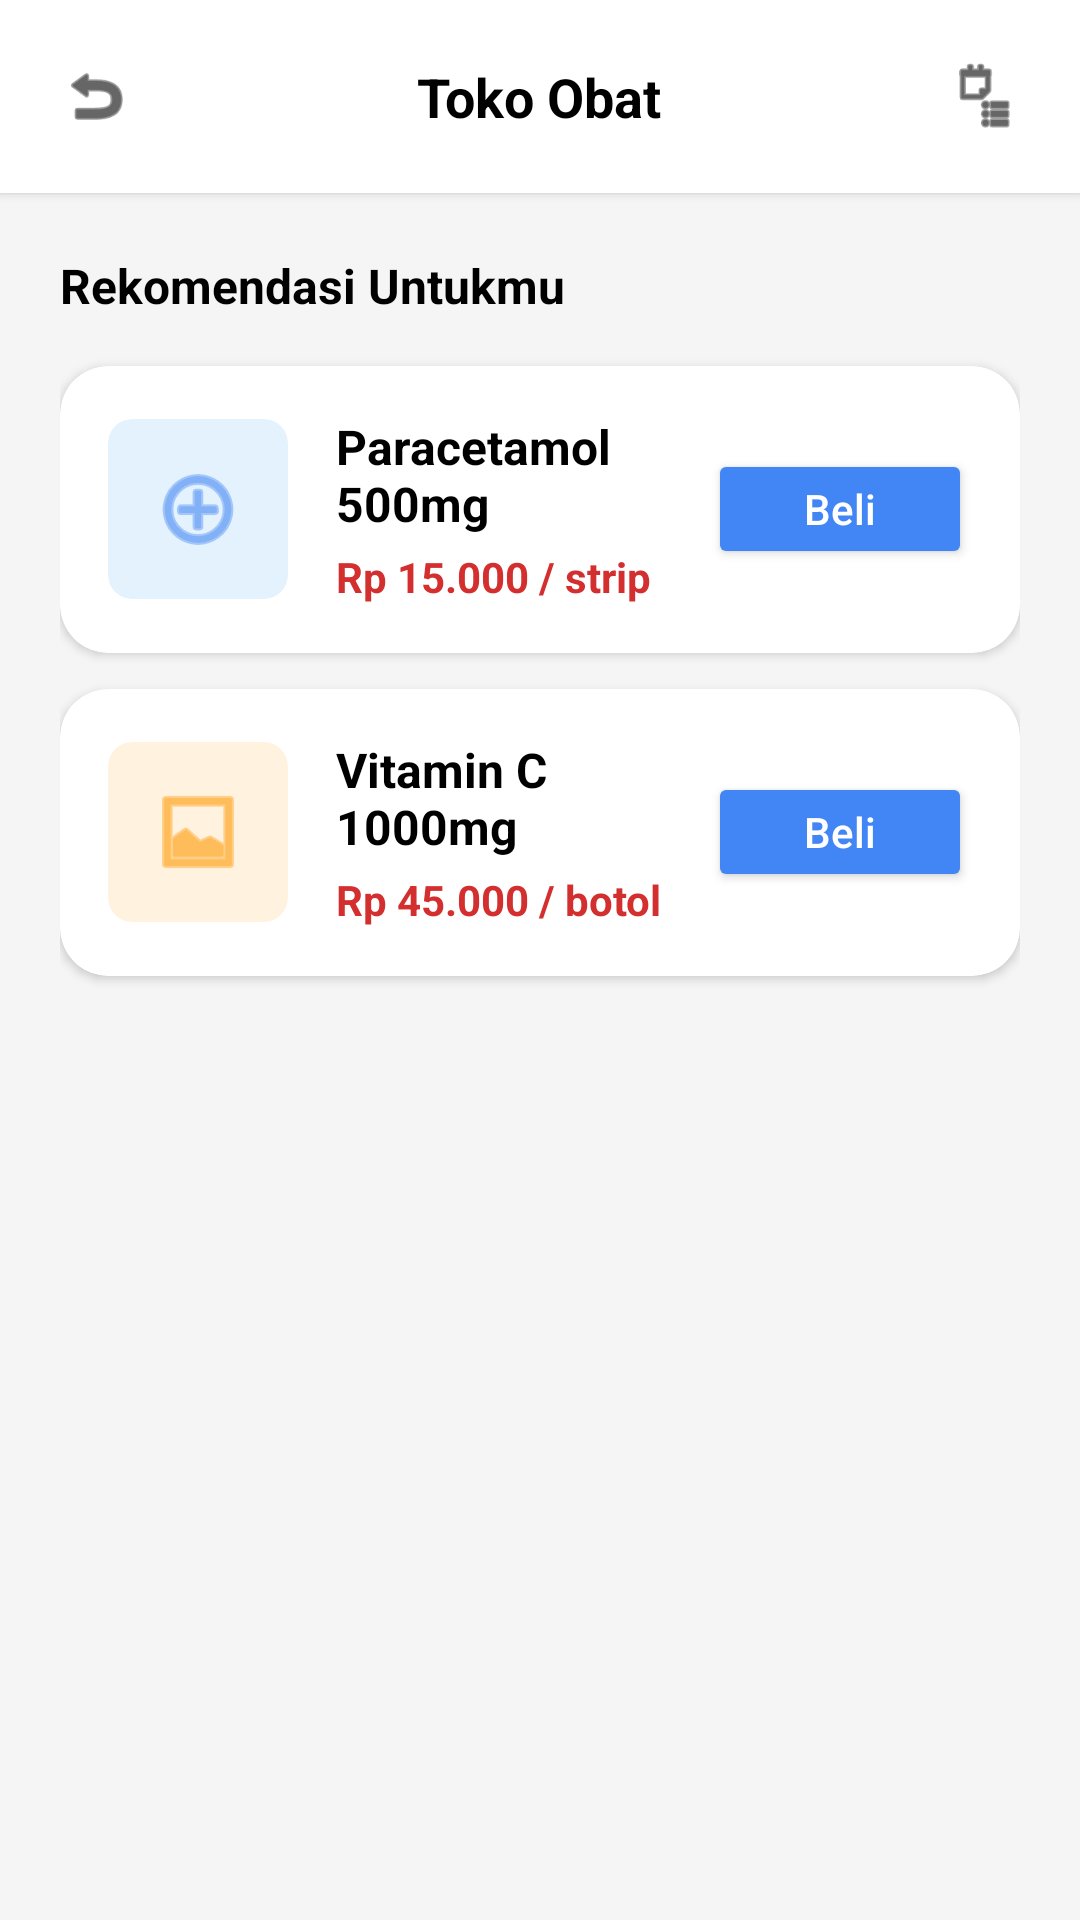

Point at icon controls on the screen. Image size 1080×1920, points as (x,y).
add: (198,509)
agenda: (984,96)
gallery: (198,832)
revert: (97,96)
